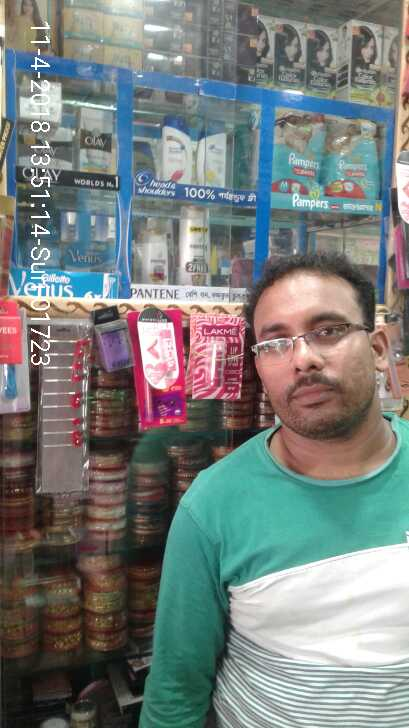venus: (66, 241, 114, 270)
